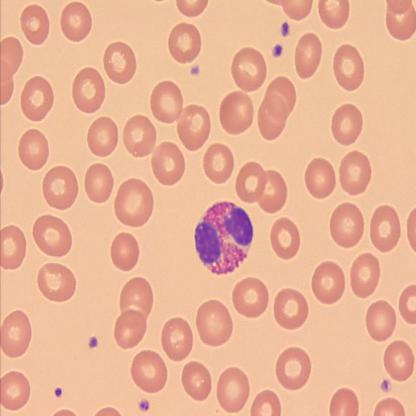Eosinophil: (195, 201, 255, 276)
